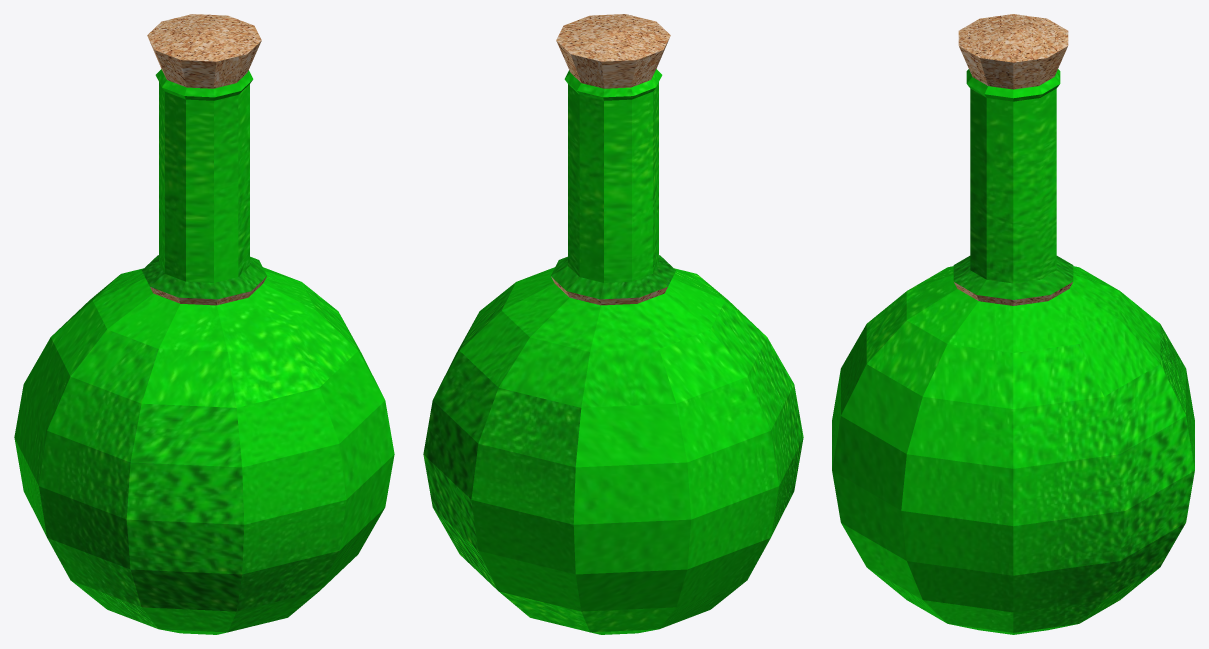
Rendered from PotionNew.fbx.
3 renders of one model, left to right at view 1: azimuth 30°, elevation 25°; view 2: azimuth 150°, elevation 25°; view 3: azimuth 270°, elevation 25°, orthographic.
Visible parts, largest first — view 1: pSphere10; view 2: pSphere10; view 3: pSphere10.
Boxes of the visible parts, x1,y1,x2,y2 form: pSphere10: [14, 14, 394, 634]; pSphere10: [423, 14, 803, 634]; pSphere10: [832, 14, 1194, 634].
Bounding box in the file's own units: 0.5998 × 1.02 × 0.5704.
